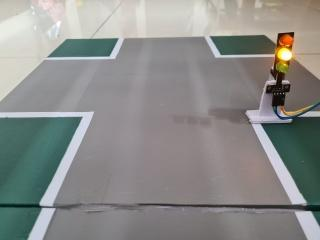yellow: (264, 26, 300, 81)
